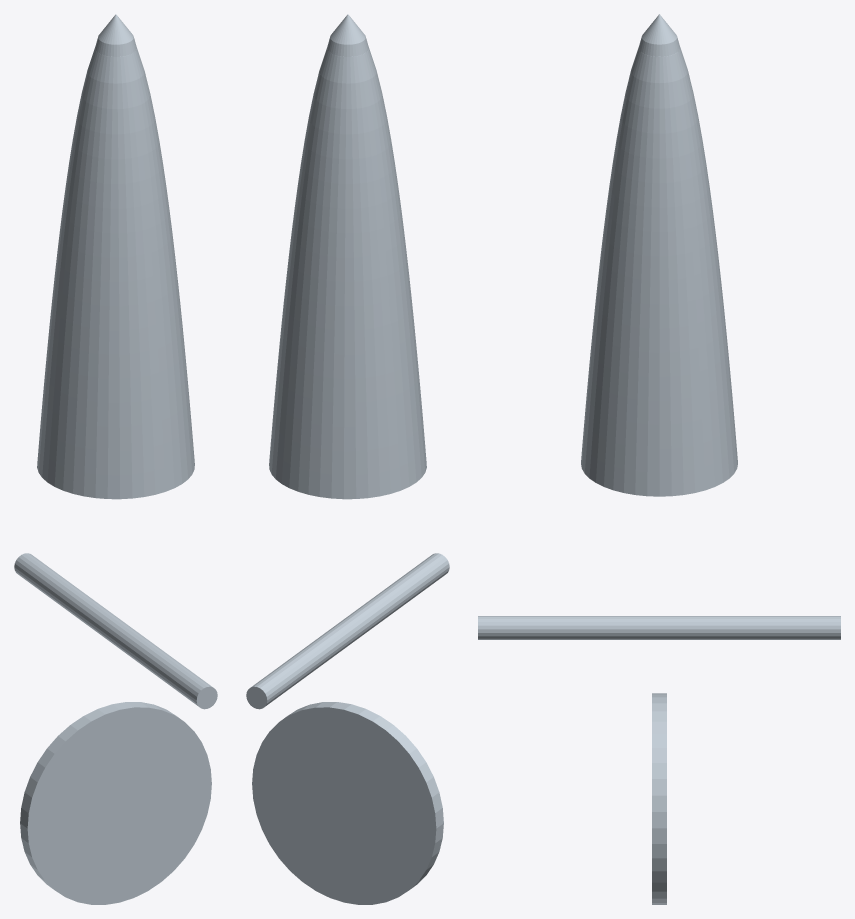
Rendered from 1789180024852_Champagne_Flute_glb.glb.
The picture shows the model from 3 angles, left to right: view 1: azimuth 30°, elevation 25°; view 2: azimuth 150°, elevation 25°; view 3: azimuth 270°, elevation 25°; orthographic projection.
Parts seen in each view (by area): view 1: world; view 2: world; view 3: world.
Part boxes in pixels (bbox=[...]): world: bbox=[14, 14, 217, 904]; world: bbox=[246, 14, 449, 904]; world: bbox=[478, 14, 840, 904].
Bounding box in the file's own units: 0.07 × 0.3215 × 0.12.
